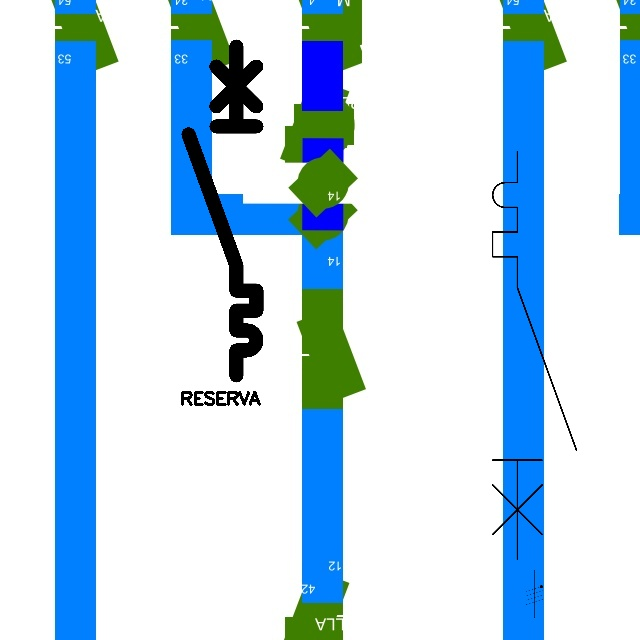interruptor_termomagnetico: (482, 141, 587, 569), (180, 38, 265, 384)
